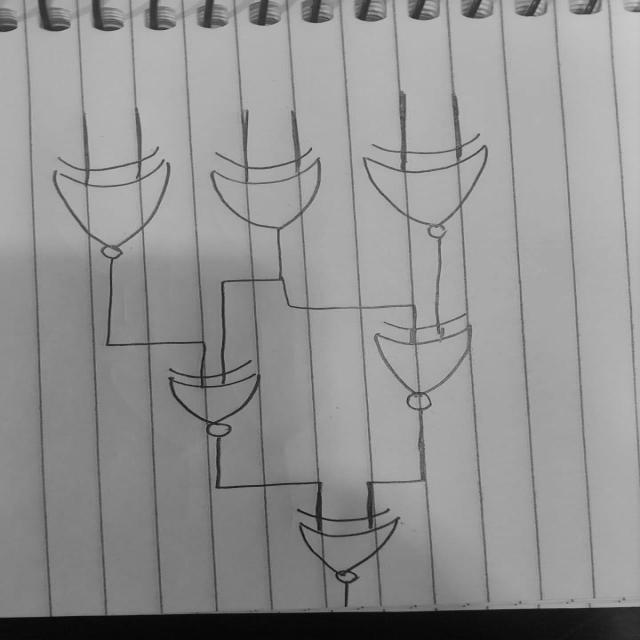XNOR: (47, 148, 197, 270), (356, 126, 504, 247), (358, 314, 520, 416), (153, 359, 308, 444), (284, 503, 433, 590)
XOR: (213, 142, 332, 246)
